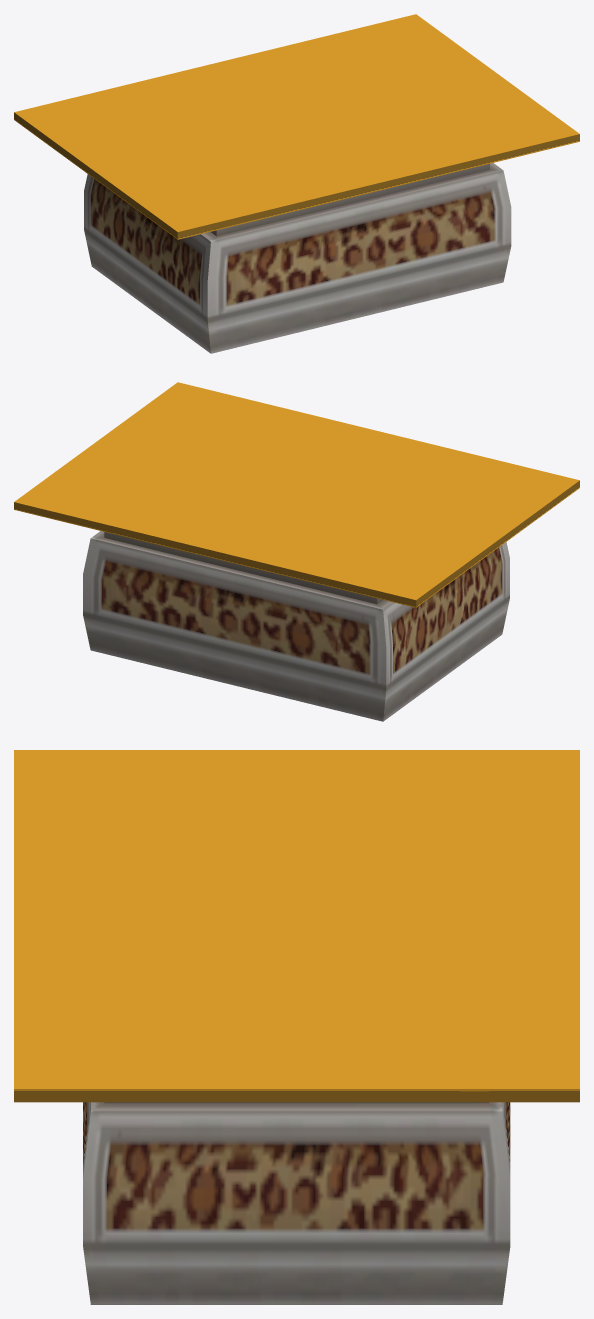
File: furni_0200185.FBX
The picture shows the model from 3 angles, top to bottom: view 1: azimuth 30°, elevation 25°; view 2: azimuth 150°, elevation 25°; view 3: azimuth 270°, elevation 25°; orthographic projection. The views are drawn at different scales.
Visible parts, largest first — view 1: furni_0200185; view 2: furni_0200185; view 3: furni_0200185.
Boxes of the visible parts, bbox=[...] form: furni_0200185: bbox=[14, 14, 579, 353]; furni_0200185: bbox=[14, 382, 579, 721]; furni_0200185: bbox=[14, 750, 579, 1304].
Bounding box in the file's own units: 139 × 49.96 × 97.94.
